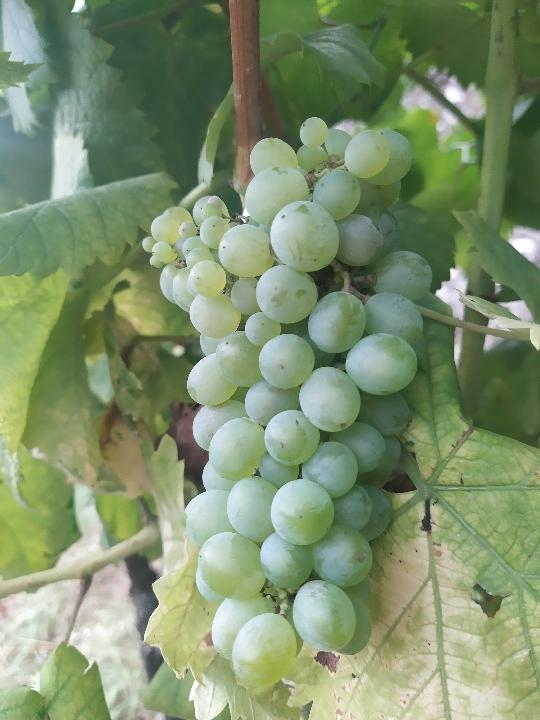grape: (139, 115, 436, 690)
